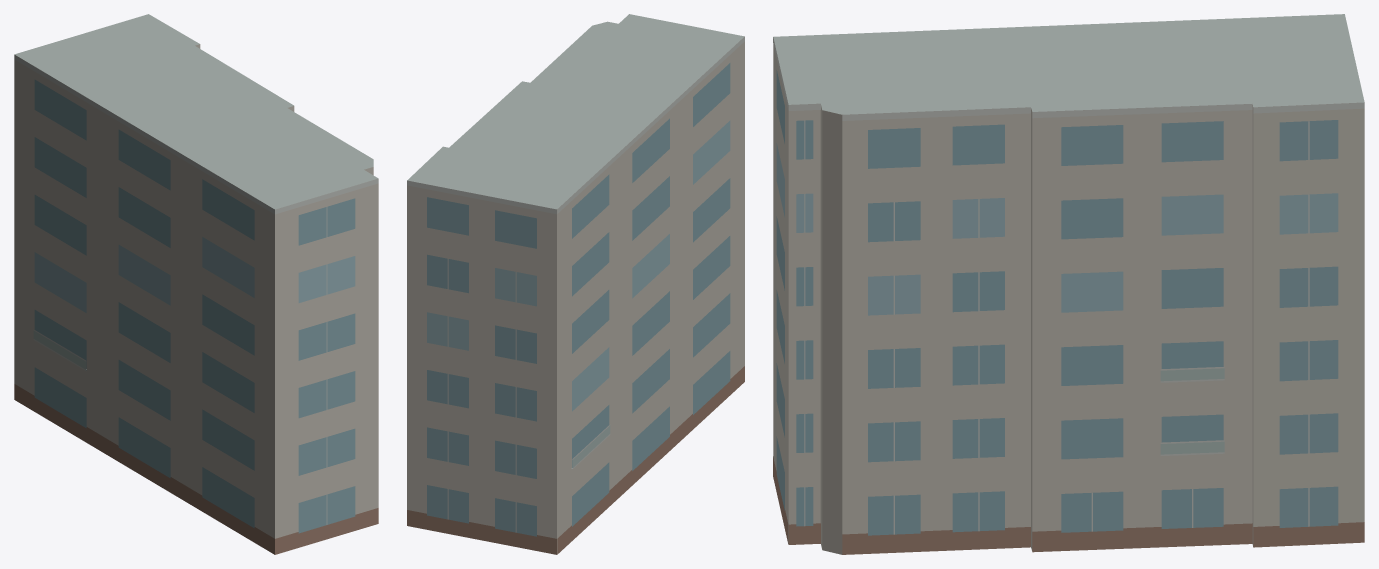
The model's file is survey-upis-32569838.glb.
The picture shows the model from 3 angles, left to right: view 1: azimuth 30°, elevation 25°; view 2: azimuth 150°, elevation 25°; view 3: azimuth 270°, elevation 25°; orthographic projection. The views are drawn at different scales.
Visible parts, largest first — view 1: survey-upis-32569838.tmp; view 2: survey-upis-32569838.tmp; view 3: survey-upis-32569838.tmp.
Part boxes in pixels (<box>): survey-upis-32569838.tmp: <box>14,14,378,554</box>; survey-upis-32569838.tmp: <box>407,14,744,554</box>; survey-upis-32569838.tmp: <box>773,14,1364,554</box>.
Size of the model in its own units: 8.5 by 17.3 by 21.08.
